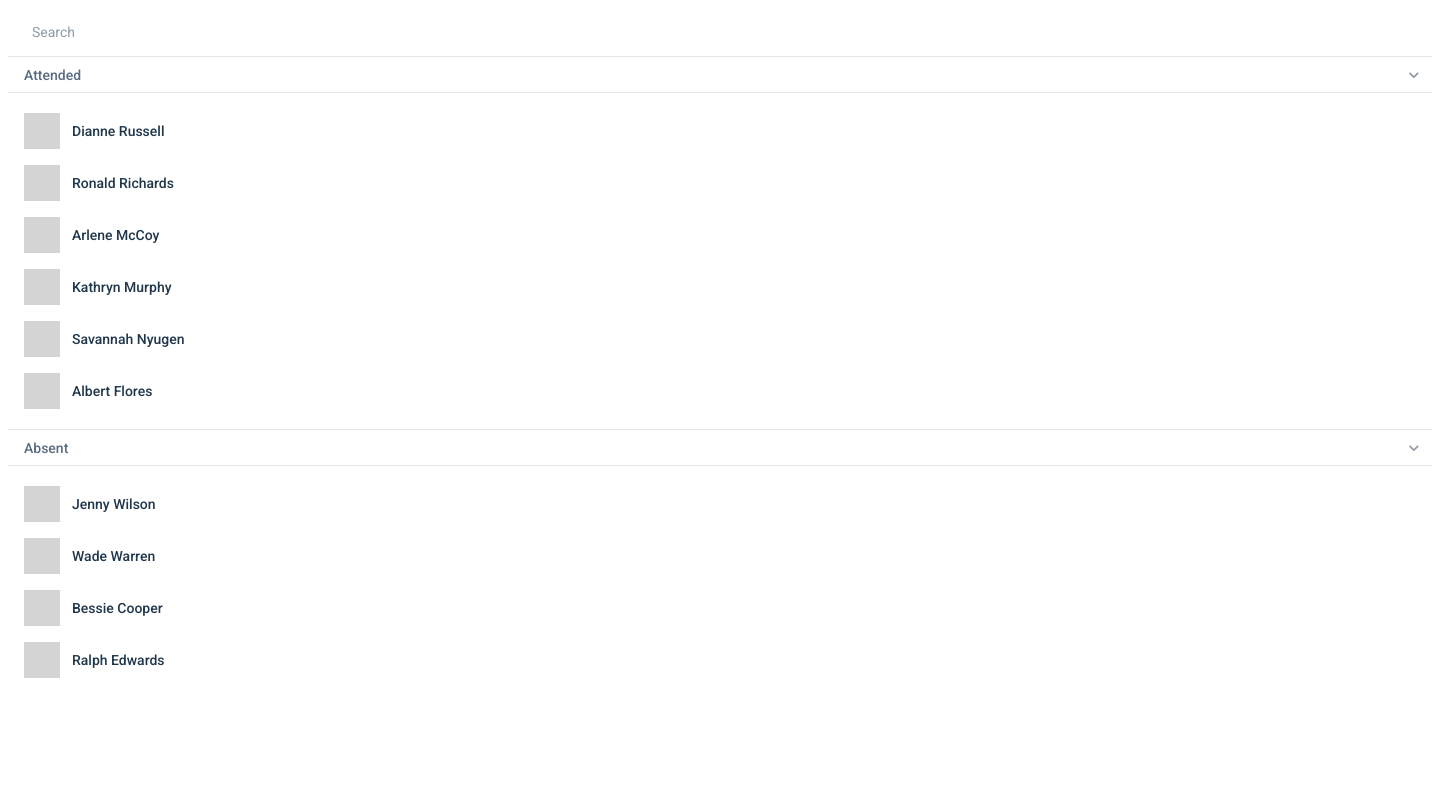
Searching filters contact name by prefix across all sections
Type "R" into the field at {"x": 724, "y": 32}, box [32,22,1416,42]
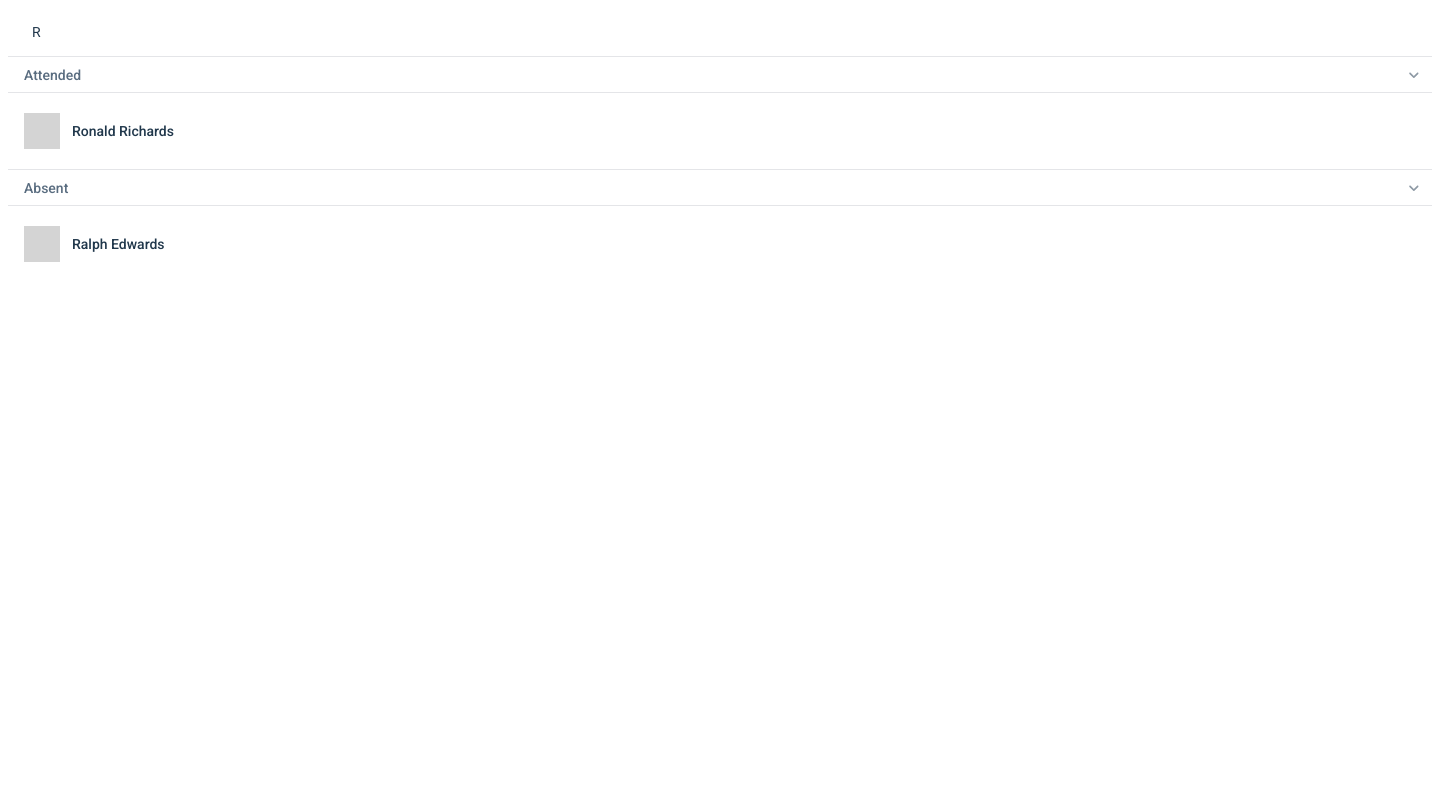
Expected: the text "Ronald Richards" is shown, [72,121,174,141]
Expected: the text "Ralph Edwards" is shown, [72,234,165,254]
Expected: the button "Dianne Russel" is gone
